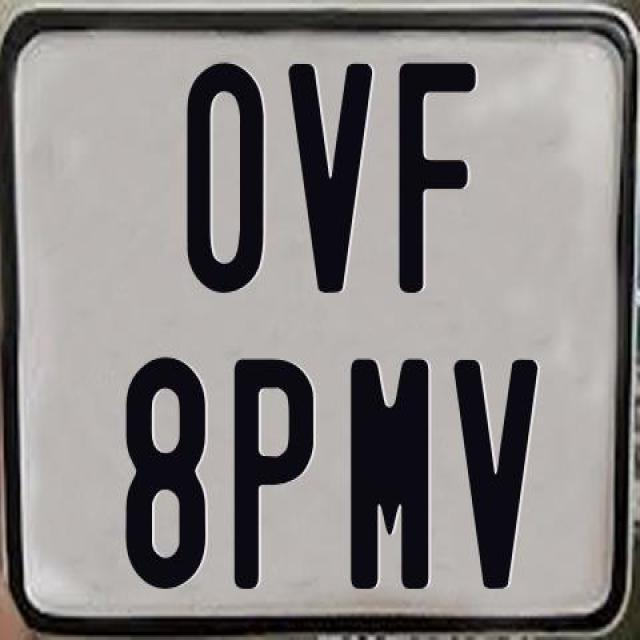0: (186, 61, 272, 294)
8: (121, 354, 208, 588)
F: (394, 63, 478, 300)
M: (346, 353, 428, 588)
P: (232, 354, 312, 588)
V: (286, 59, 378, 288), (453, 355, 544, 584)
